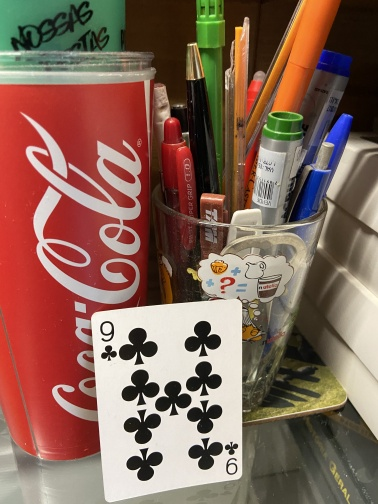nine: (89, 297, 245, 504)
